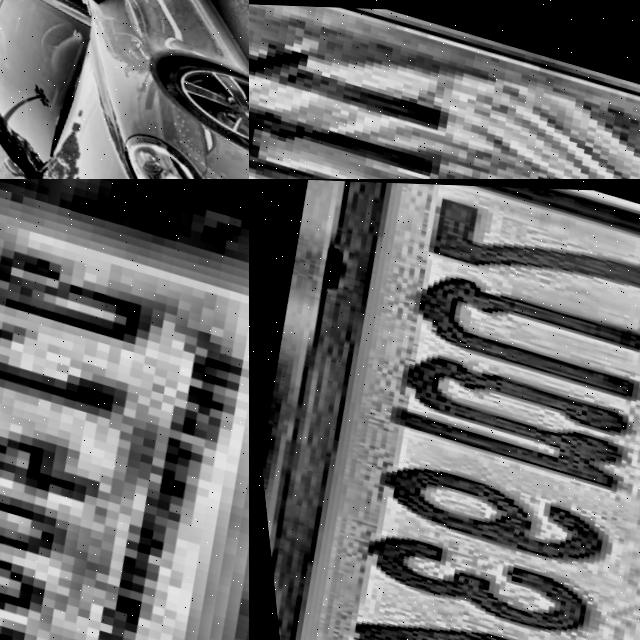license-plate: (249, 179, 640, 640), (0, 179, 249, 640), (249, 0, 640, 179)
